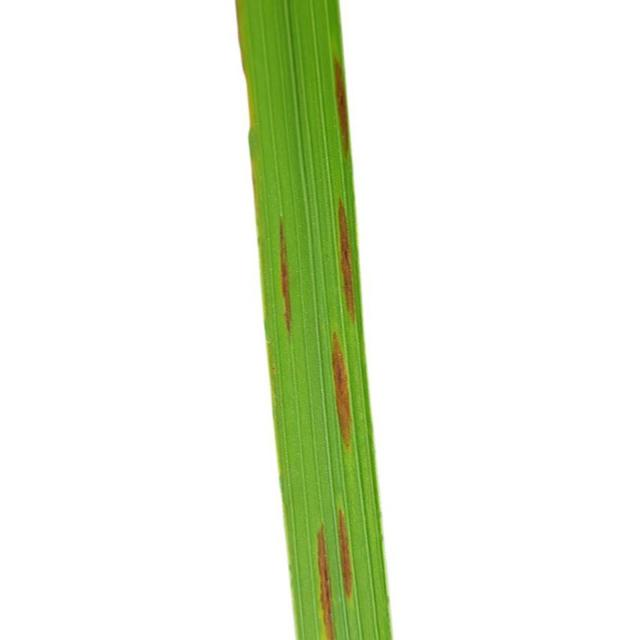Narrow brown: (198, 0, 442, 640)
